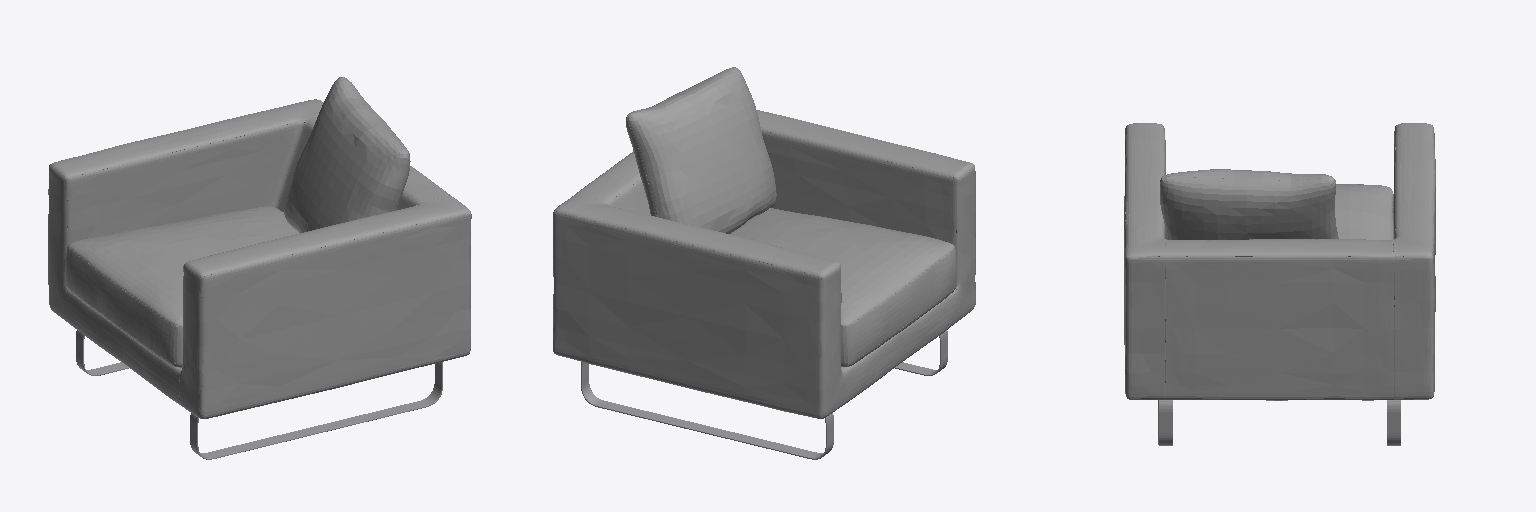
The model's file is signalSF.obj.
3 renders of one model, left to right at view 1: azimuth 30°, elevation 25°; view 2: azimuth 150°, elevation 25°; view 3: azimuth 270°, elevation 25°, orthographic.
Parts seen in each view (by area): view 1: archmodels59_lounge_chair_2, archmodels59_lounge_chair_3, archmodels59_lounge_chair_4, archmodels59_lounge_chair_1; view 2: archmodels59_lounge_chair_2, archmodels59_lounge_chair_4, archmodels59_lounge_chair_3, archmodels59_lounge_chair_1; view 3: archmodels59_lounge_chair_2, archmodels59_lounge_chair_4, archmodels59_lounge_chair_3, archmodels59_lounge_chair_1.
Boxes of the visible parts, x1,y1,x2,y2 form: archmodels59_lounge_chair_2: [48, 99, 471, 418]; archmodels59_lounge_chair_3: [65, 206, 298, 367]; archmodels59_lounge_chair_4: [284, 77, 410, 232]; archmodels59_lounge_chair_1: [76, 330, 442, 459]; archmodels59_lounge_chair_2: [553, 110, 975, 418]; archmodels59_lounge_chair_4: [626, 67, 776, 233]; archmodels59_lounge_chair_3: [730, 208, 956, 366]; archmodels59_lounge_chair_1: [581, 330, 947, 459]; archmodels59_lounge_chair_2: [1124, 123, 1435, 400]; archmodels59_lounge_chair_4: [1160, 169, 1338, 239]; archmodels59_lounge_chair_3: [1166, 184, 1393, 239]; archmodels59_lounge_chair_1: [1158, 400, 1400, 445].
Size of the model in its own units: 89.76 by 81.6 by 86.22.